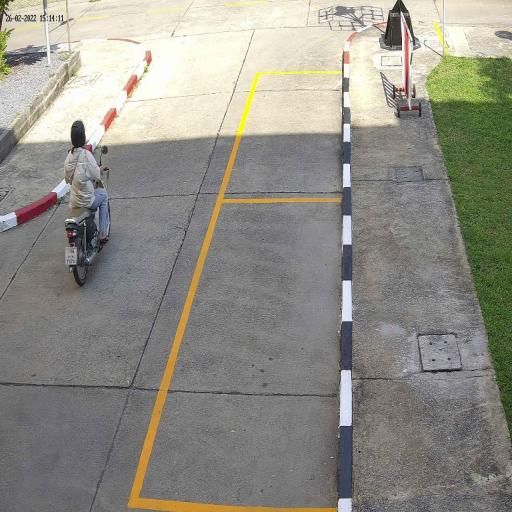motorcycle: (64, 186, 112, 288)
